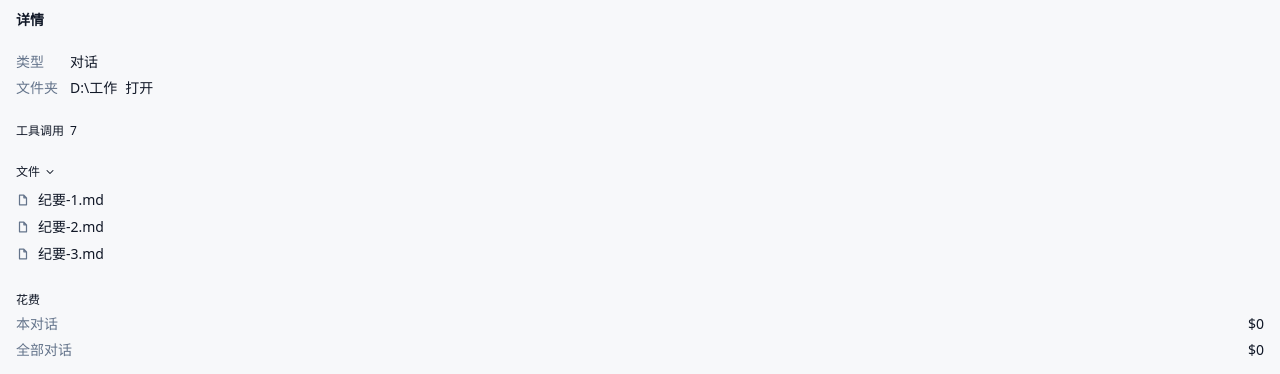
Test: 详情 › 文件, as Claude’s Outputs › the heading folds the list; folded, it says how many
The image size is (1280, 374).
Click the button "文件".
click(28, 172)  # box left=16, top=163, right=1264, bottom=180
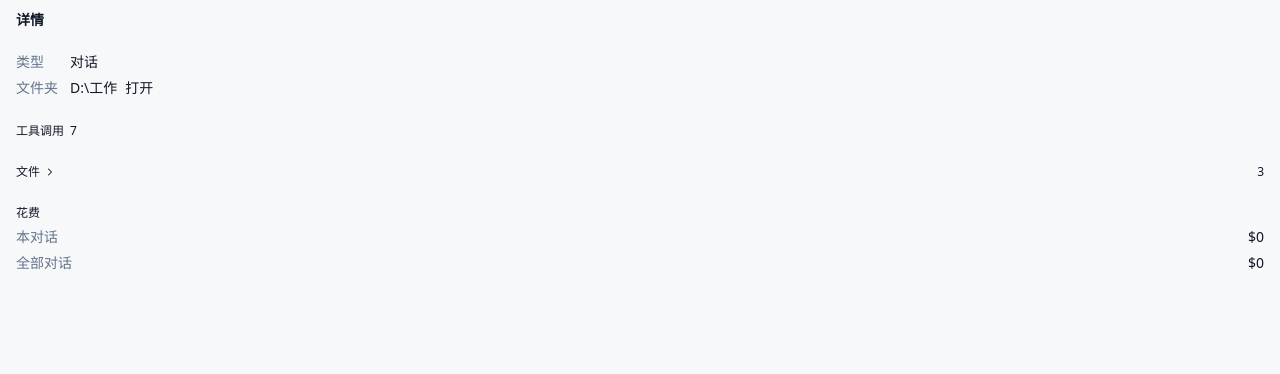
Check: the text with class "detail-count" reads "3", box left=1257, top=163, right=1264, bottom=180
Check: the button "文件 3" is collapsed, box left=16, top=163, right=1264, bottom=180
Check: the button with class "detail-file" is gone
